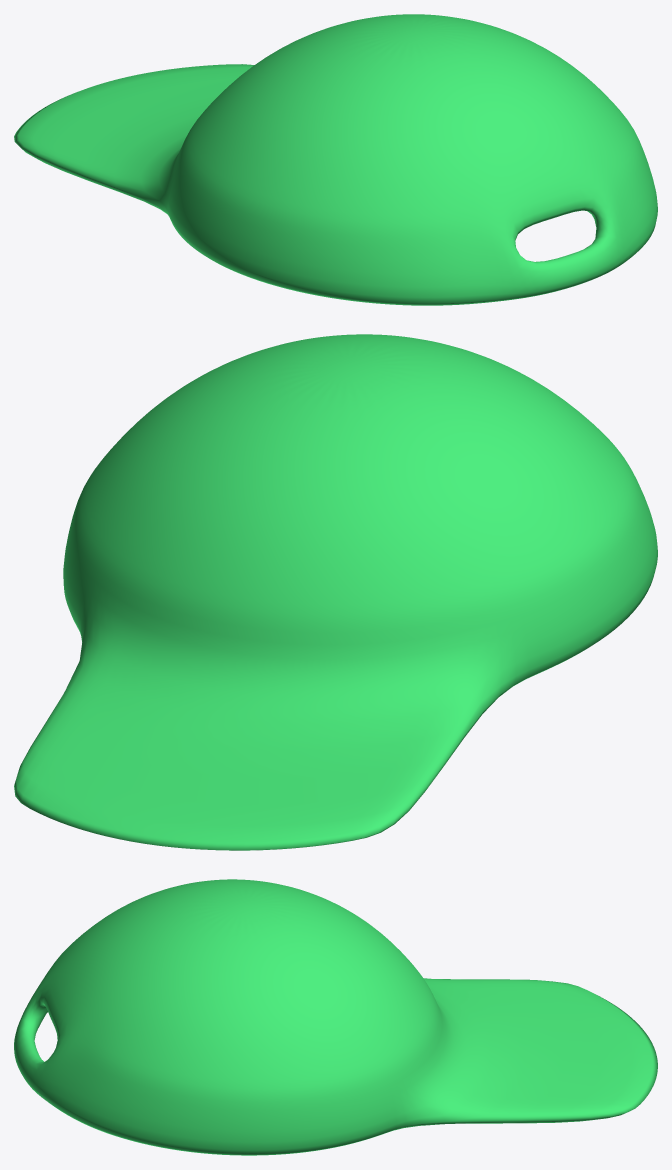
The model's file is Hat.fbx.
The picture shows the model from 3 angles, top to bottom: view 1: azimuth 30°, elevation 25°; view 2: azimuth 150°, elevation 25°; view 3: azimuth 270°, elevation 25°; orthographic projection. The views are drawn at different scales.
Parts seen in each view (by area): view 1: cap; view 2: cap; view 3: cap.
Boxes of the visible parts, x1,y1,x2,y2 form: cap: (14, 14, 657, 305); cap: (14, 334, 657, 850); cap: (14, 879, 657, 1155).
Bounding box in the file's own units: 73.87 × 35.46 × 111.
